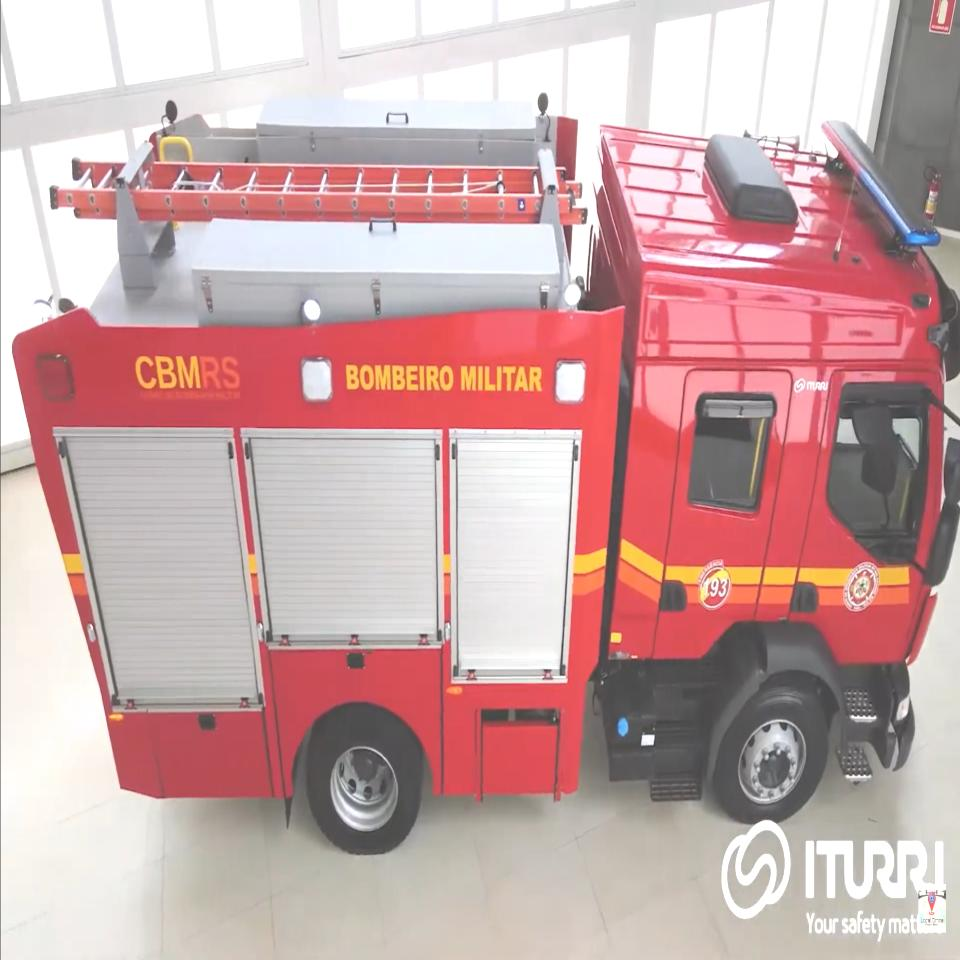bombeiro: (12, 91, 960, 857)
